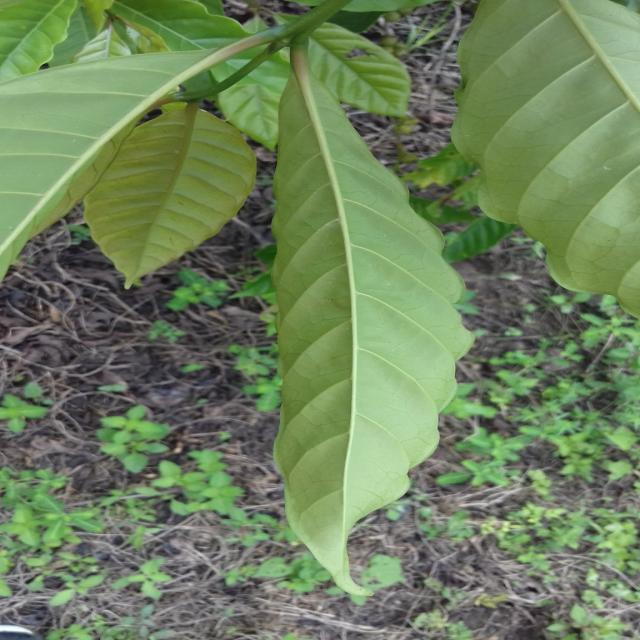Sanas: (269, 43, 476, 597)
